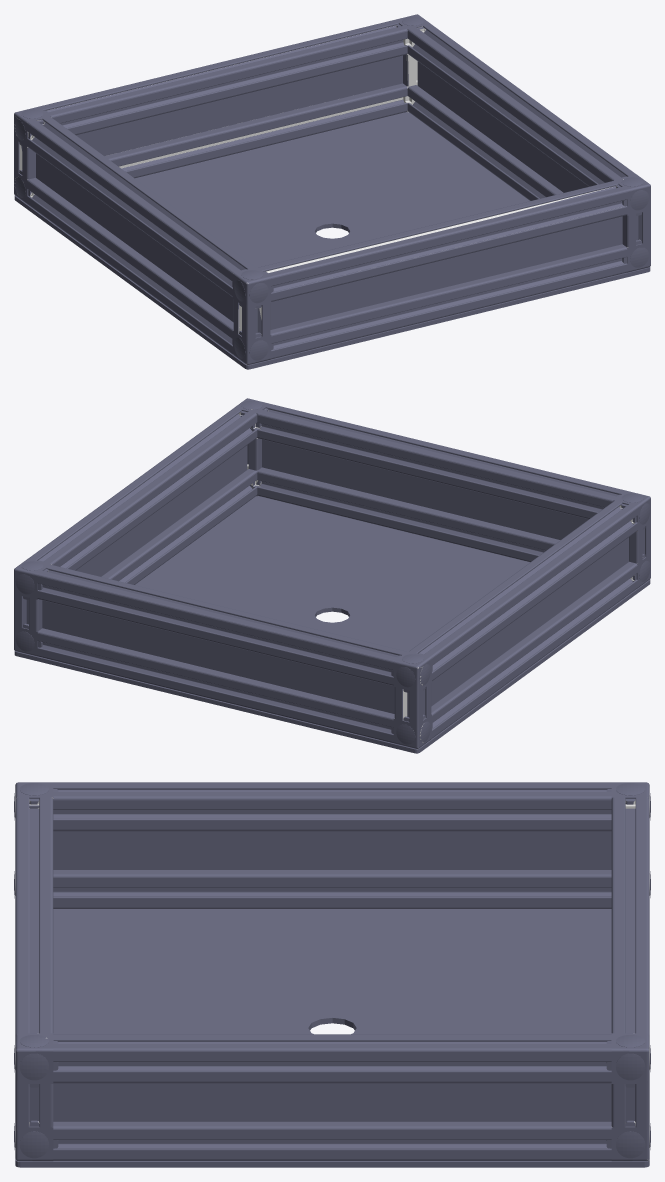
The picture shows the model from 3 angles, top to bottom: view 1: azimuth 30°, elevation 25°; view 2: azimuth 150°, elevation 25°; view 3: azimuth 270°, elevation 25°; orthographic projection. The views are drawn at different scales.
Parts seen in each view (by area): view 1: node0; view 2: node0; view 3: node0.
Part boxes in pixels (bbox=[...]): node0: bbox=[14, 14, 650, 369]; node0: bbox=[14, 398, 650, 753]; node0: bbox=[14, 782, 650, 1167].
Size of the model in its own units: 0.334 by 0.334 by 0.069.
